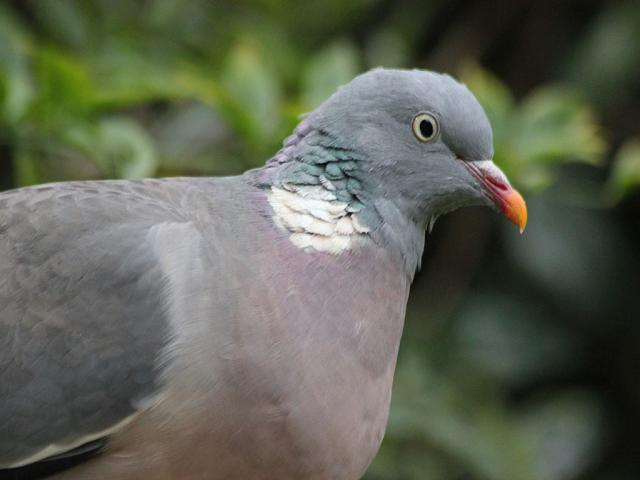Bird: (8, 58, 518, 476)
